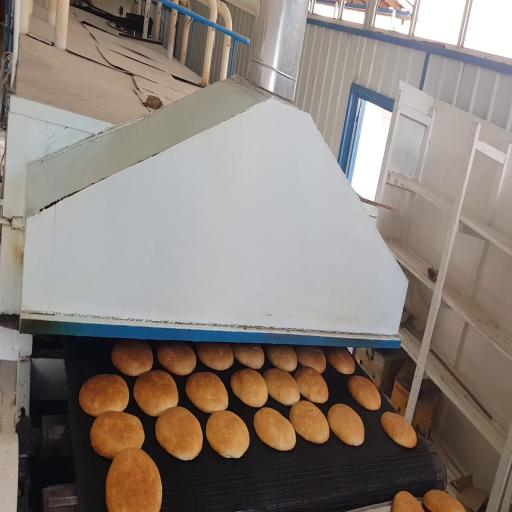bread: (106, 448, 162, 511), (90, 412, 144, 458), (156, 407, 202, 460), (79, 375, 129, 416), (134, 370, 178, 416), (206, 411, 249, 458), (254, 408, 295, 450), (186, 372, 228, 412), (290, 401, 329, 443), (112, 340, 154, 376), (328, 404, 364, 446), (231, 369, 267, 407), (263, 368, 299, 406), (382, 412, 417, 448), (158, 342, 196, 375), (295, 366, 328, 403), (348, 376, 381, 410), (197, 343, 233, 370), (423, 490, 465, 511), (232, 343, 264, 369), (296, 346, 326, 373), (267, 345, 297, 371), (327, 348, 355, 374), (393, 492, 423, 511)
